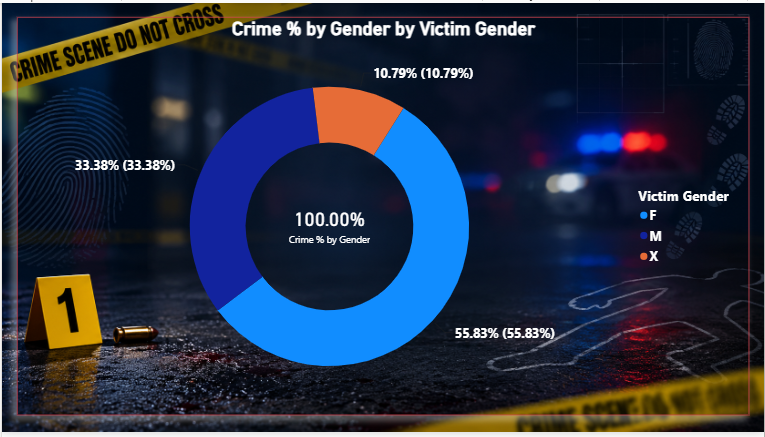

The page's visual inventory and layout, read from the dashboard file:
{"tool":"powerbi","page":{"name":"Crime % by Gender ","canvas":[1280,720],"ordinal":4},"visuals":[{"type":"donutChart","fields":{"Category":["crime_dataset_india.Victim Gender"],"Y":["Mesure Table.Crime % by Gender"]},"box":[25.2,23.5,1229.6,668.6],"z":0}]}

Visuals, with their boxes in screenshot pixels (x1, y1, x2, y2), scaled from the page's 1280x720 canvas onto the 765x437 screenshot:
donutChart - crime_dataset_india.Victim Gender x Mesure Table.Crime % by Gender: 15 14 750 420
